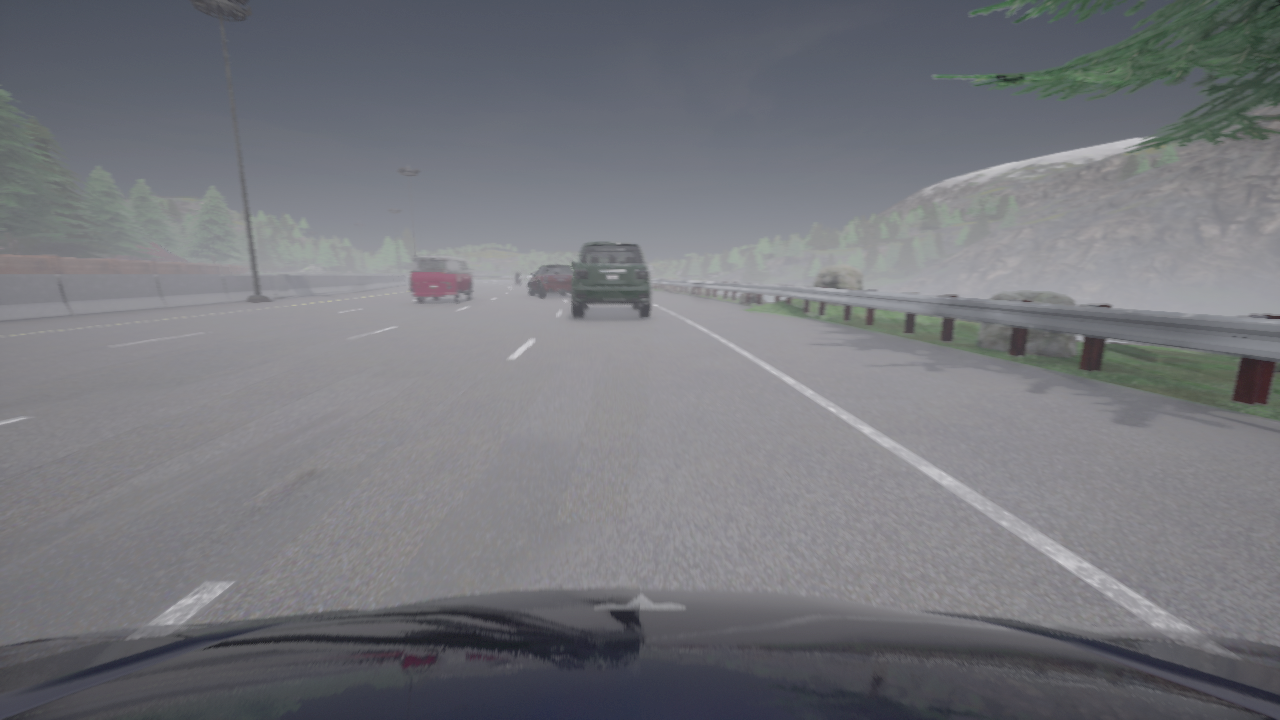cyclist: (0, 588, 1279, 719), (572, 242, 651, 317), (411, 255, 472, 302), (528, 264, 572, 296), (513, 274, 520, 283), (409, 277, 412, 291)
